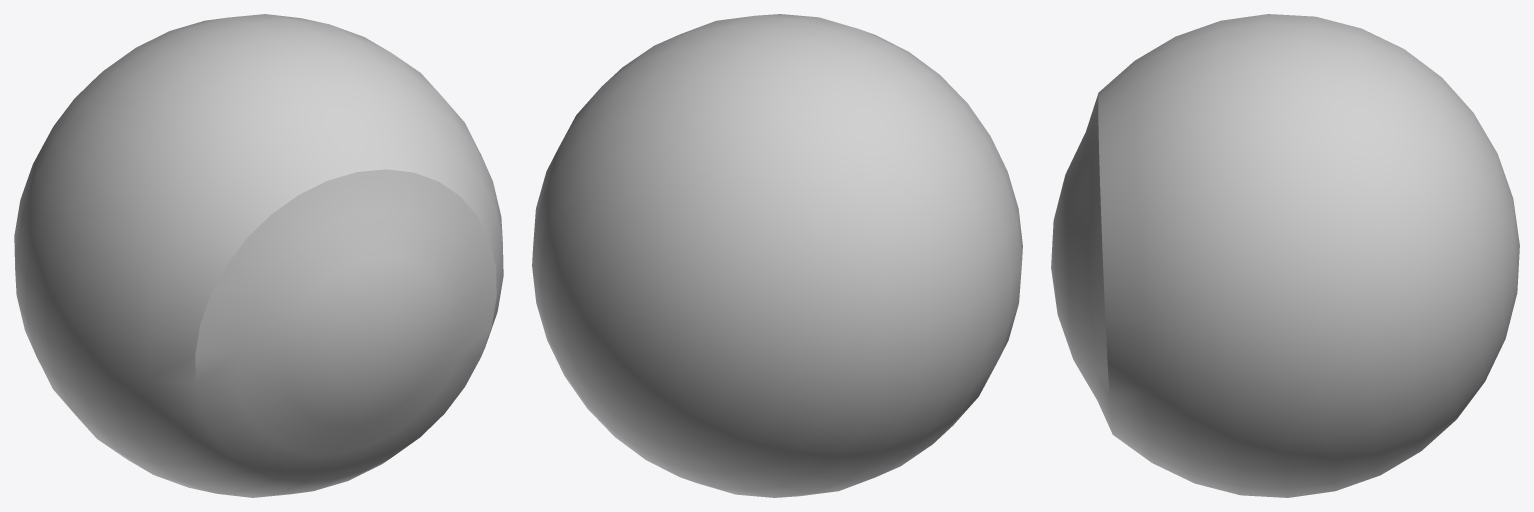
Rendered from ballfinal.glb.
3 views of the same model, side by side, from view 1: azimuth 30°, elevation 25°; view 2: azimuth 150°, elevation 25°; view 3: azimuth 270°, elevation 25° (orthographic).
Visible parts, largest first — view 1: Sphere.001; view 2: Sphere.001; view 3: Sphere.001.
Part boxes in pixels (x1,y1,x2,y2): Sphere.001: [14, 14, 503, 497]; Sphere.001: [532, 14, 1022, 497]; Sphere.001: [1051, 14, 1519, 497].
Size of the model in its own units: 2.1 by 2.06 by 2.
Materials: 2 (2 with a texture image).
